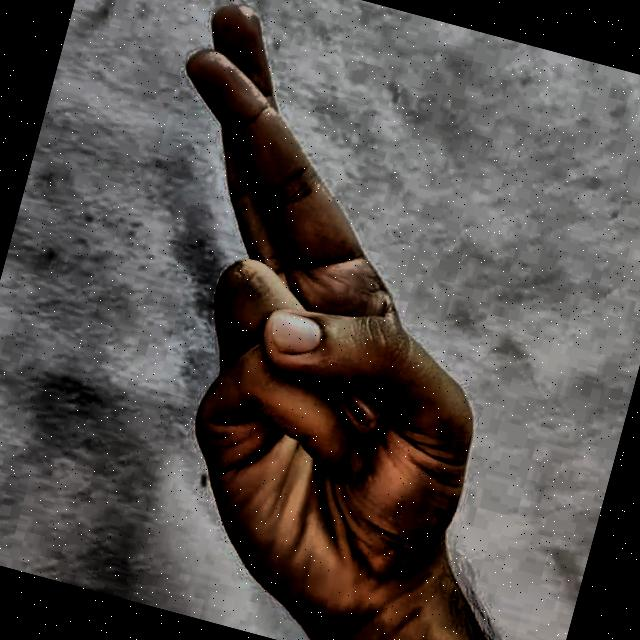Ra: (10, 0, 604, 640)
